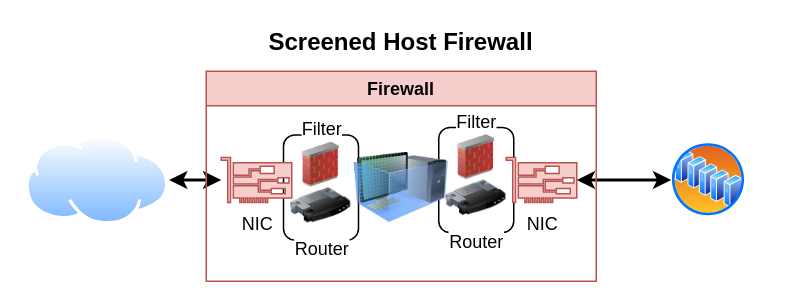
This 810x308 diagram has some shape labels left out. Each missing label, with the centre of its shape:
"Host" belongs at (400,187).
"Internal machines" belongs at (708,179).
"Internet" belongs at (97,179).
